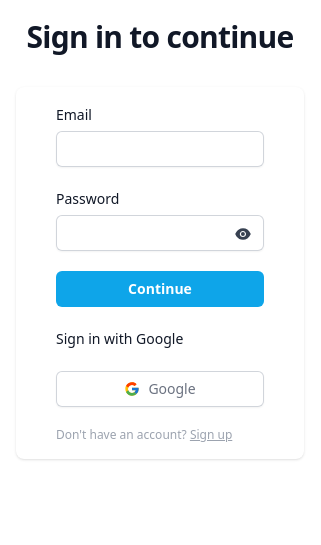
Test: Authentication page › changes state
Click the text "Sign up": (211, 434) [190,426,232,443]
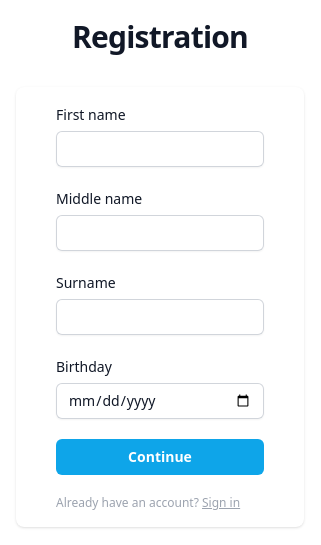
Check: the heading reads "Registration", box [72,16,248,57]
